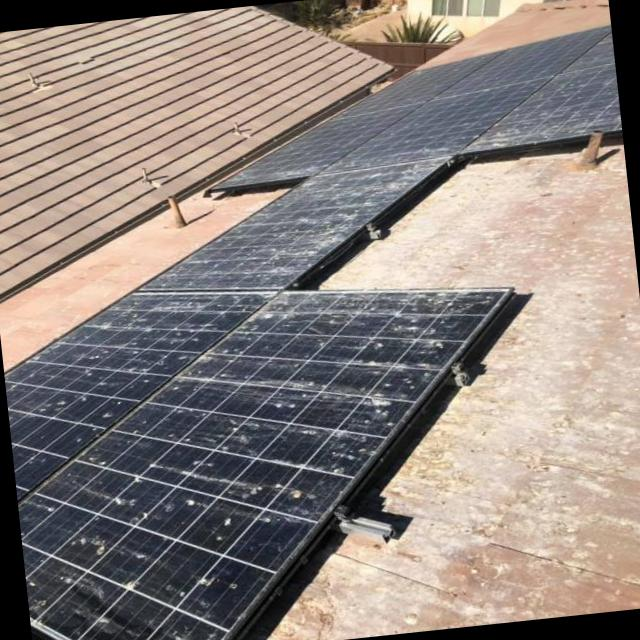faulty: (17, 290, 496, 640), (4, 292, 270, 499), (144, 163, 445, 289), (323, 79, 546, 174), (210, 106, 413, 187), (464, 63, 620, 148)
